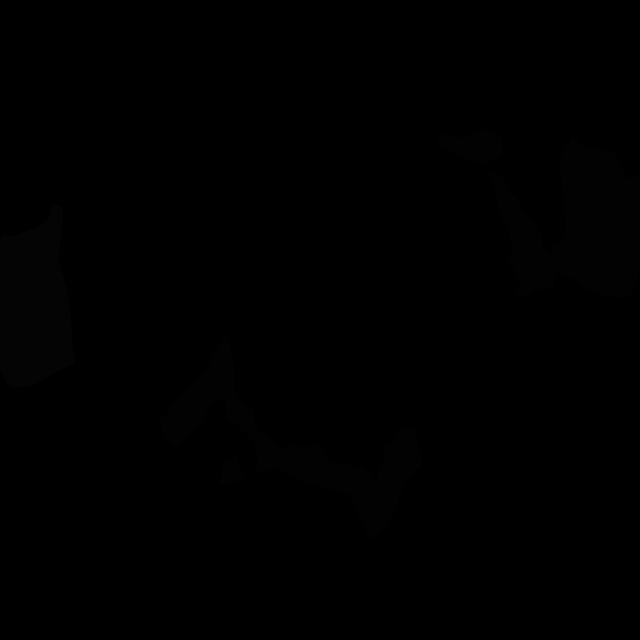cardboard: (158, 334, 422, 538), (552, 136, 640, 302), (490, 172, 556, 297), (436, 128, 503, 163), (220, 451, 246, 486)
soft_plastic: (0, 204, 75, 388)
